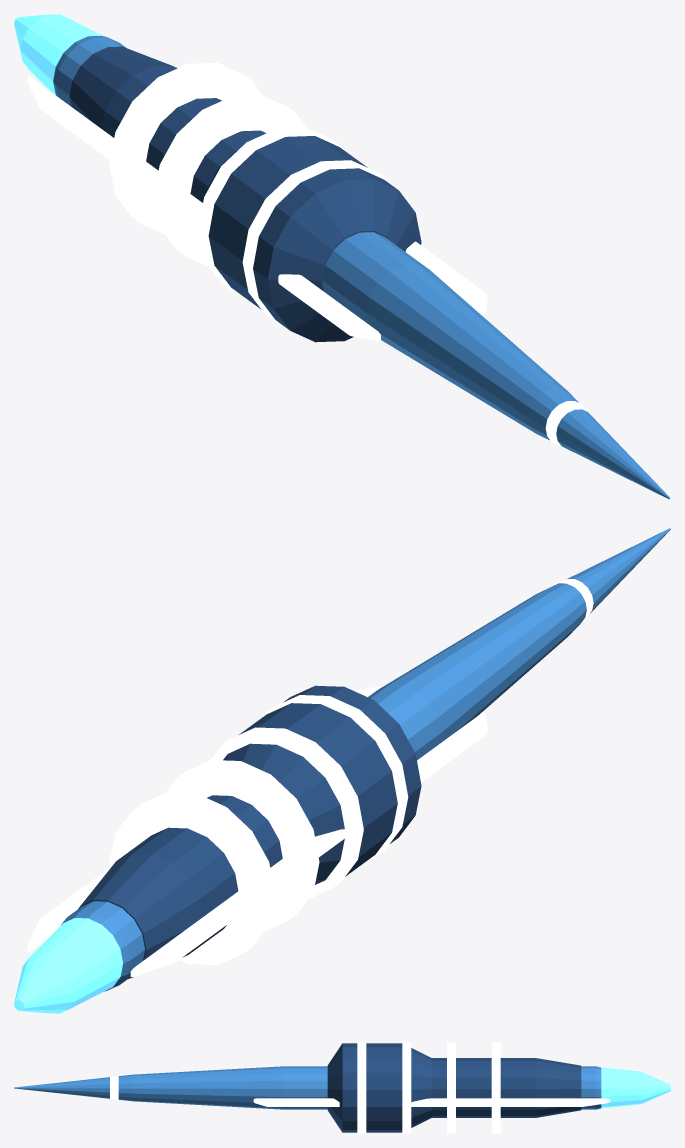
File: rail.glb
3 views of the same model, one above another, from view 1: azimuth 30°, elevation 25°; view 2: azimuth 150°, elevation 25°; view 3: azimuth 270°, elevation 25° (orthographic). The views are drawn at different scales.
Parts seen in each view (by area): view 1: rail / body / rail dark structure, rail / body / rail identity shell, rail / charge4 / rail emissive insert, rail / charge3 / rail emissive insert, rail / body / rail emissive insert.001, rail / body / rail identity light, rail / charge1 / rail emissive insert, rail / charge2 / rail emissive insert; view 2: rail / body / rail dark structure, rail / body / rail identity shell, rail / charge4 / rail emissive insert, rail / charge3 / rail emissive insert, rail / body / rail identity light, rail / body / rail emissive insert.001, rail / charge2 / rail emissive insert, rail / charge1 / rail emissive insert; view 3: rail / body / rail dark structure, rail / body / rail identity shell, rail / body / rail emissive insert.001, rail / body / rail identity light, rail / charge1 / rail emissive insert, rail / charge2 / rail emissive insert, rail / charge4 / rail emissive insert, rail / charge3 / rail emissive insert, rail / body / rail emissive insert.
Part boxes in pixels (left/top/right/bottom): rail / body / rail dark structure: left=69, top=46, right=421, bottom=342; rail / body / rail identity shell: left=53, top=35, right=670, bottom=499; rail / charge4 / rail emissive insert: left=109, top=62, right=262, bottom=234; rail / charge3 / rail emissive insert: left=154, top=95, right=307, bottom=266; rail / body / rail emissive insert.001: left=27, top=51, right=487, bottom=341; rail / body / rail identity light: left=14, top=14, right=103, bottom=95; rail / charge1 / rail emissive insert: left=242, top=160, right=388, bottom=324; rail / charge2 / rail emissive insert: left=198, top=127, right=343, bottom=292; rail / body / rail dark structure: left=78, top=685, right=421, bottom=978; rail / body / rail identity shell: left=61, top=528, right=670, bottom=991; rail / charge4 / rail emissive insert: left=109, top=792, right=274, bottom=965; rail / charge3 / rail emissive insert: left=165, top=760, right=319, bottom=931; rail / body / rail identity light: left=14, top=918, right=122, bottom=1013; rail / body / rail emissive insert.001: left=27, top=686, right=487, bottom=976; rail / charge2 / rail emissive insert: left=210, top=727, right=363, bottom=899; rail / charge1 / rail emissive insert: left=262, top=695, right=408, bottom=859; rail / body / rail dark structure: left=327, top=1043, right=581, bottom=1132; rail / body / rail identity shell: left=14, top=1066, right=601, bottom=1109; rail / body / rail emissive insert.001: left=253, top=1098, right=610, bottom=1106; rail / body / rail identity light: left=601, top=1067, right=670, bottom=1108; rail / charge1 / rail emissive insert: left=357, top=1042, right=366, bottom=1133; rail / charge2 / rail emissive insert: left=402, top=1042, right=411, bottom=1133; rail / charge4 / rail emissive insert: left=491, top=1042, right=500, bottom=1133; rail / charge3 / rail emissive insert: left=447, top=1042, right=455, bottom=1133; rail / body / rail emissive insert: left=110, top=1075, right=118, bottom=1100.
Bounding box in the file's own units: 6.12 × 6.12 × 44.
